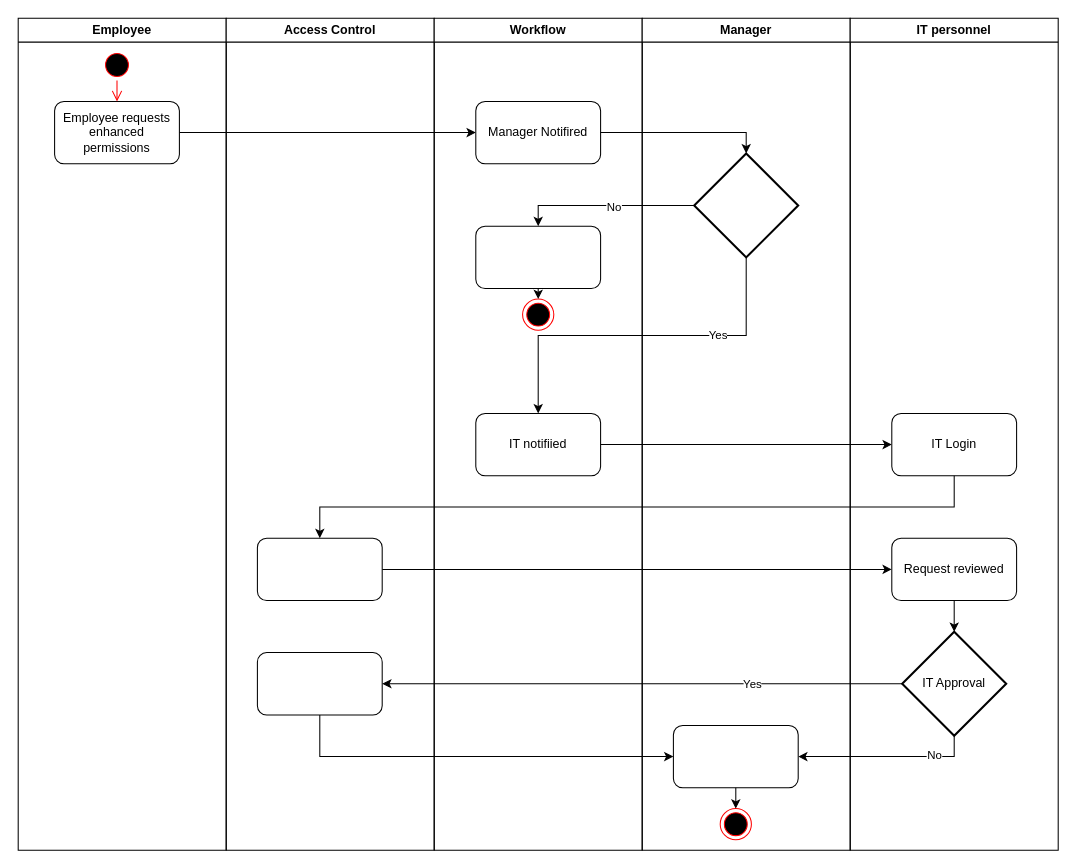
Image size: 1076x868. Some labels were removed from this diagram. The centre of each missing label's shape, as x and y in pixels:
"Access Permissions Granted" goes at (319,569).
"Employee and manager notified" goes at (735,756).
"Employee notified" goes at (538,257).
"Manager Approval" goes at (746,205).
"Permissions upgraded" goes at (319,683).
